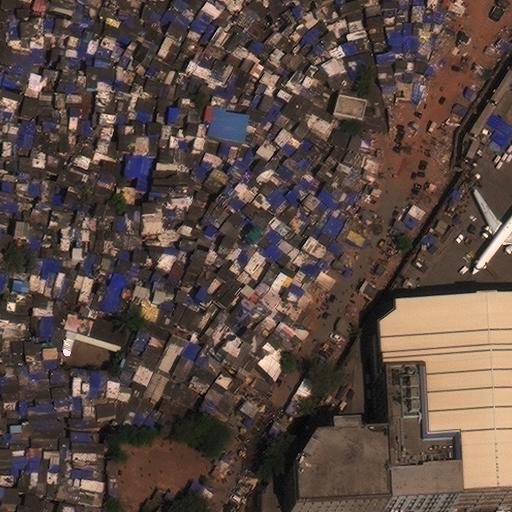Medium Civil Transport: (472, 183, 511, 274)
